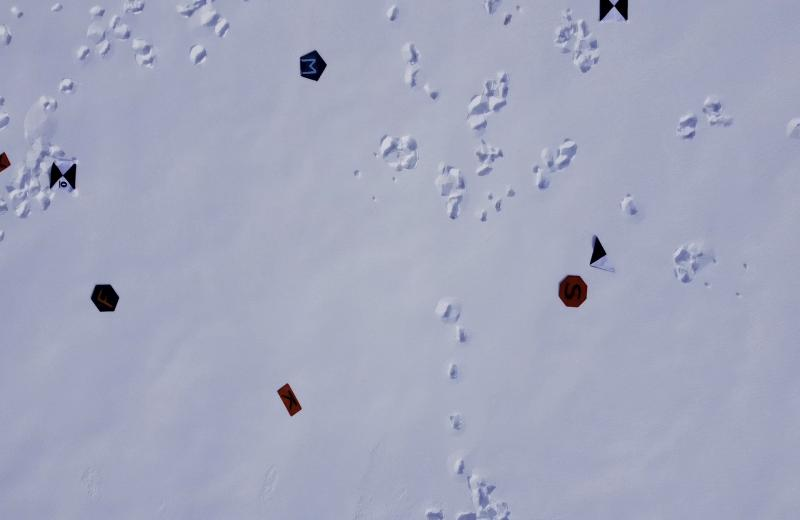Hexagon: (86, 279, 125, 317)
Octagon: (553, 269, 589, 314)
Pentagon: (294, 44, 331, 85)
Rectangle: (272, 381, 310, 420), (0, 145, 17, 183)
